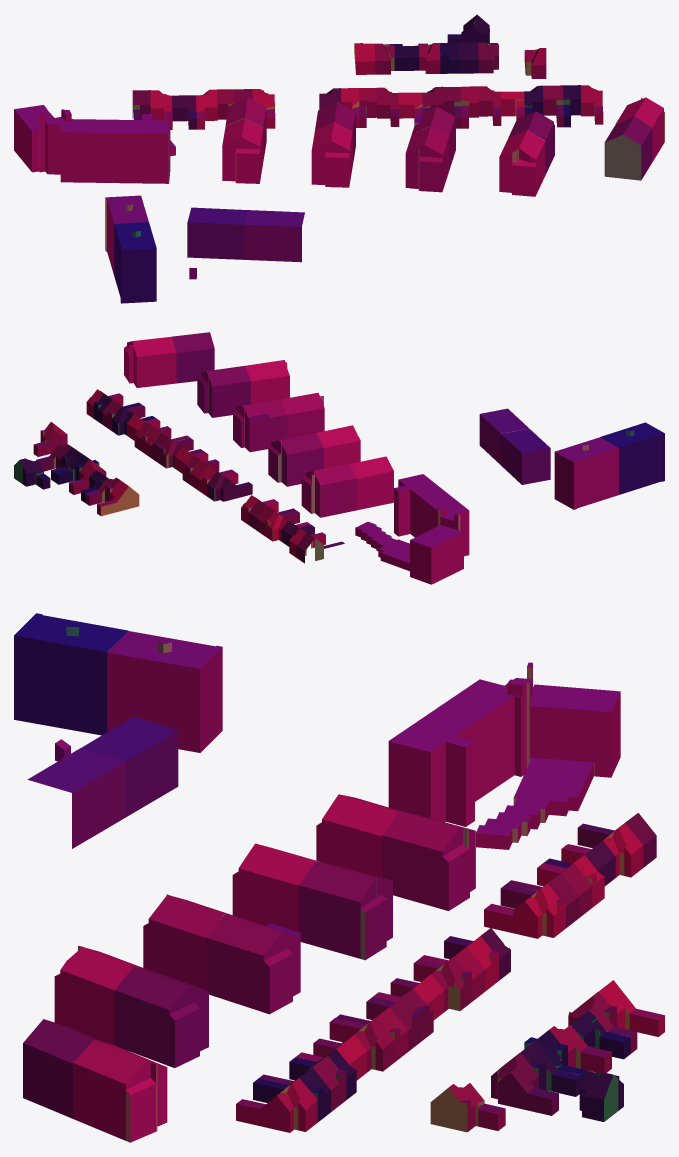
The model's file is buildings_7_14.glb.
3 renders of one model, top to bottom at view 1: azimuth 30°, elevation 25°; view 2: azimuth 150°, elevation 25°; view 3: azimuth 270°, elevation 25°, orthographic. The views are drawn at different scales.
Parts seen in each view (by area): view 1: buildings_7_14; view 2: buildings_7_14; view 3: buildings_7_14.
Boxes of the visible parts, <box> form: buildings_7_14: <box>14,14,664,303</box>; buildings_7_14: <box>14,332,664,584</box>; buildings_7_14: <box>14,613,664,1142</box>.
Size of the model in its own units: 191 by 18.69 by 118.
